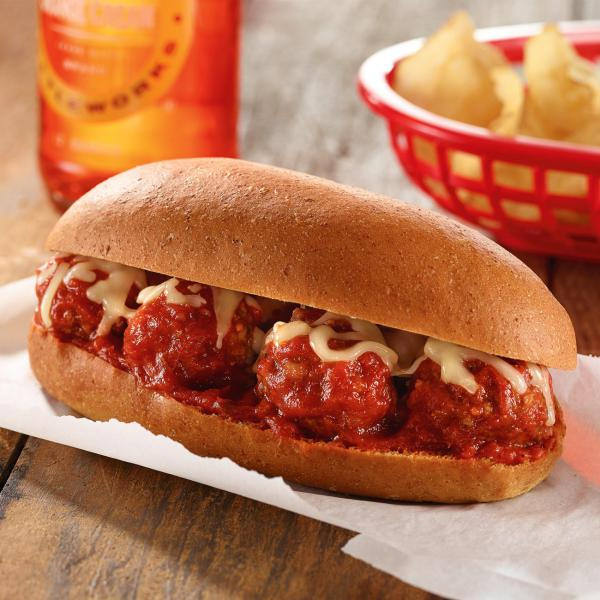slice of bread: (35, 142, 600, 369), (18, 317, 566, 515)
